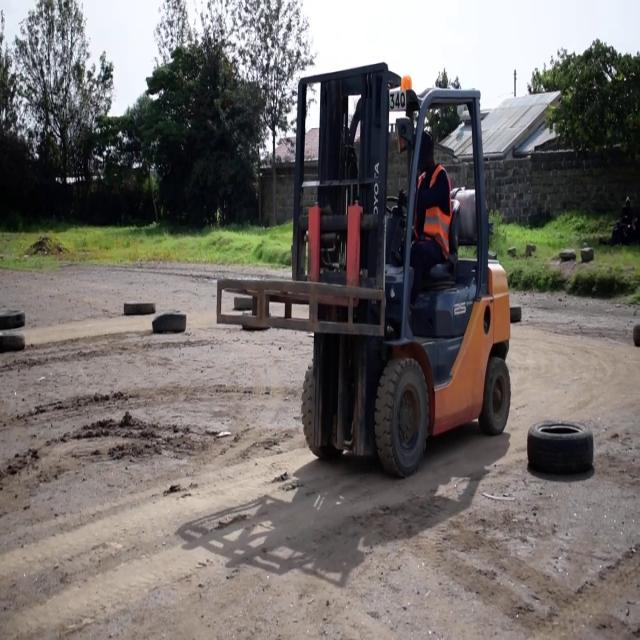Chariot elevateur: (299, 54, 529, 478)
